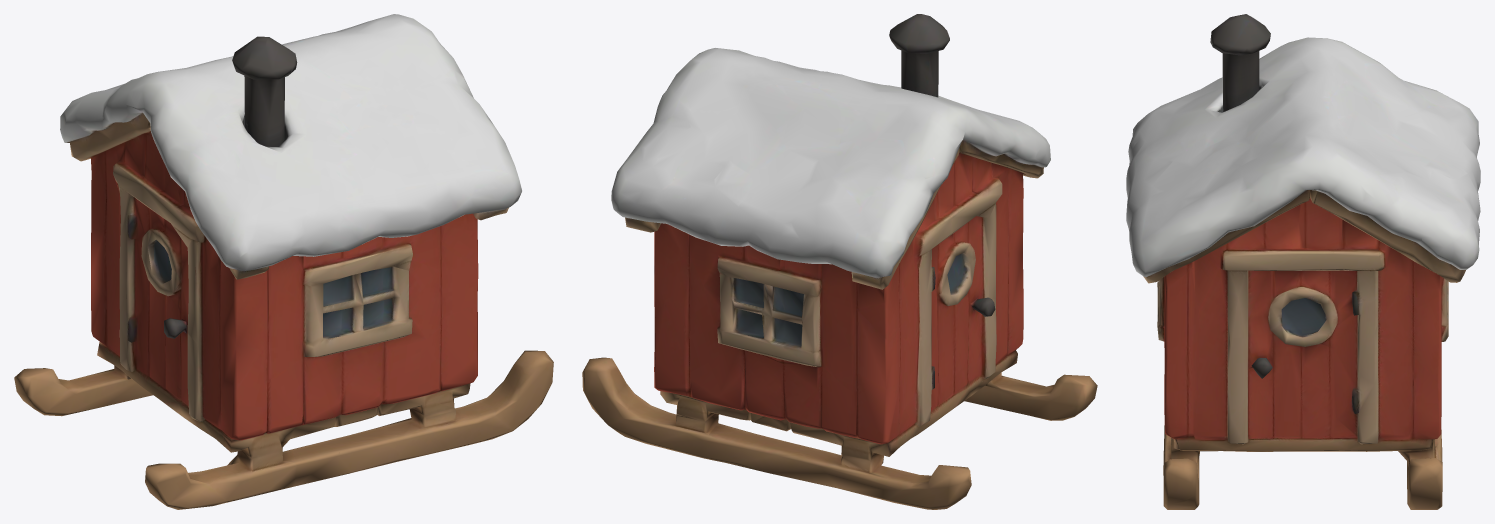
Rendered from ice-hut.glb.
3 renders of one model, left to right at view 1: azimuth 30°, elevation 25°; view 2: azimuth 150°, elevation 25°; view 3: azimuth 270°, elevation 25°, orthographic. The views are drawn at different scales.
Visible parts, largest first — view 1: tripo_node_902f66e5-0ea8-4a22-bc7e-af2515e86f96; view 2: tripo_node_902f66e5-0ea8-4a22-bc7e-af2515e86f96; view 3: tripo_node_902f66e5-0ea8-4a22-bc7e-af2515e86f96.
Boxes of the visible parts, <box> form: tripo_node_902f66e5-0ea8-4a22-bc7e-af2515e86f96: <box>14,14,553,509</box>; tripo_node_902f66e5-0ea8-4a22-bc7e-af2515e86f96: <box>582,14,1097,509</box>; tripo_node_902f66e5-0ea8-4a22-bc7e-af2515e86f96: <box>1126,14,1480,509</box>.
Bounding box in the file's own units: 0.9973 × 1 × 0.8043.
1 material, 1 textured.
